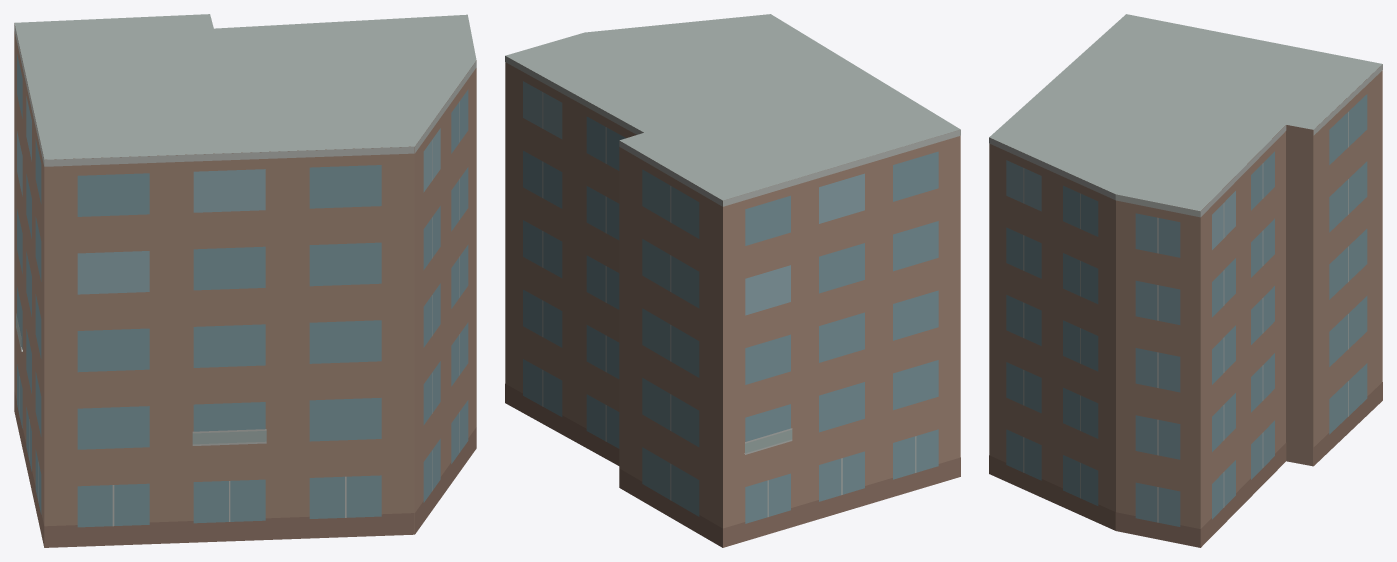
File: survey-upis-32489344.glb
3 renders of one model, left to right at view 1: azimuth 30°, elevation 25°; view 2: azimuth 150°, elevation 25°; view 3: azimuth 270°, elevation 25°, orthographic. The views are drawn at different scales.
Visible parts, largest first — view 1: survey-upis-32489344.tmp; view 2: survey-upis-32489344.tmp; view 3: survey-upis-32489344.tmp.
Boxes of the visible parts, x1,y1,x2,y2 form: survey-upis-32489344.tmp: (14, 14, 476, 547); survey-upis-32489344.tmp: (505, 14, 960, 547); survey-upis-32489344.tmp: (989, 14, 1382, 547).
Bounding box in the file's own units: 16.98 × 13.5 × 14.32.
